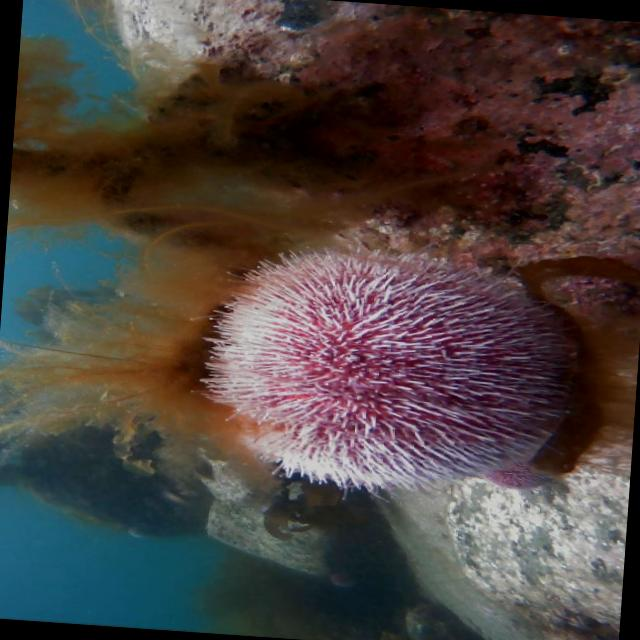Deniz Kestanesi: (172, 223, 586, 515), (482, 461, 552, 492), (328, 572, 356, 588), (124, 526, 148, 538)
